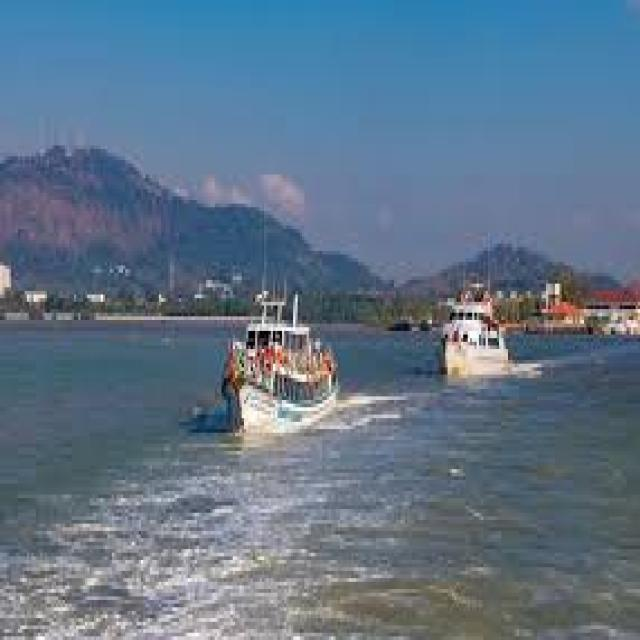fishing boat: (223, 295, 339, 428), (434, 291, 511, 379)
